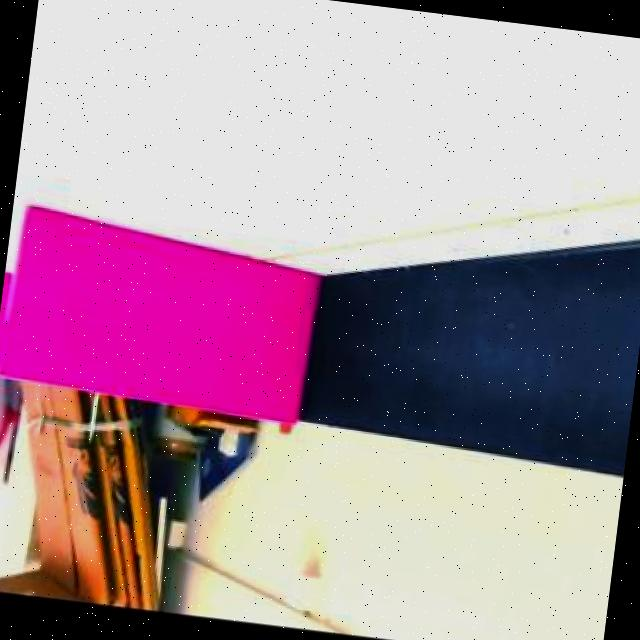xparking: (3, 221, 312, 408)
